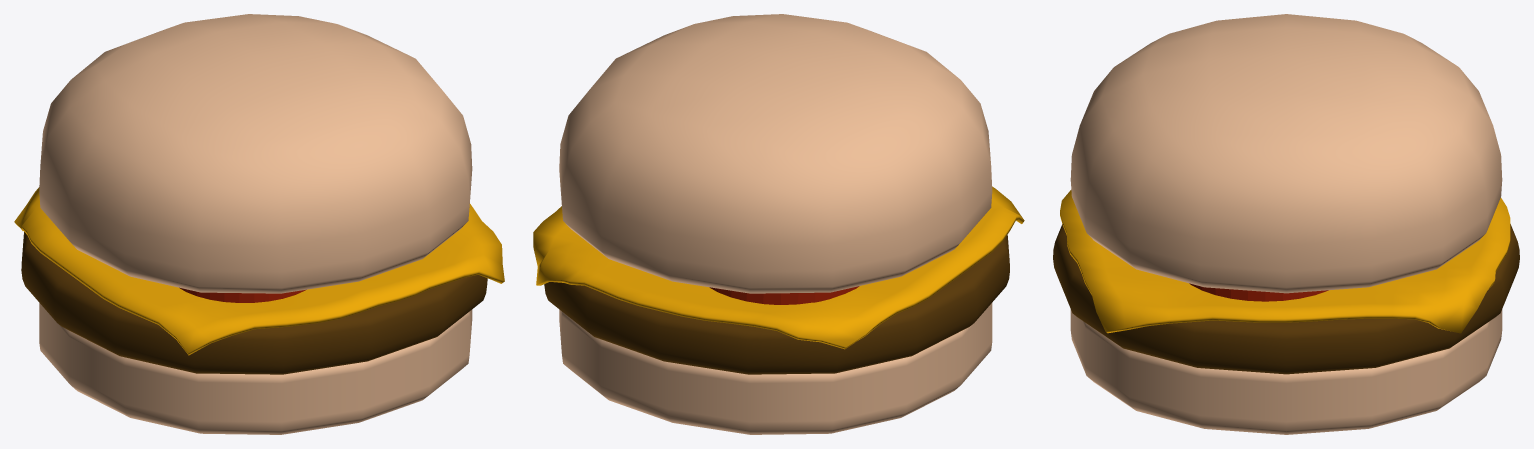
Rendered from burger.glb.
3 renders of one model, left to right at view 1: azimuth 30°, elevation 25°; view 2: azimuth 150°, elevation 25°; view 3: azimuth 270°, elevation 25°, orthographic.
Parts seen in each view (by area): view 1: Top Bun, Bottom Bun, pattie, Cheese, Tomato; view 2: Top Bun, Bottom Bun, pattie, Cheese, Tomato.002; view 3: Top Bun, Bottom Bun, Cheese, pattie, Tomato.001.
Boxes of the visible parts, bbox=[...] form: Top Bun: bbox=[39, 14, 472, 293]; Bottom Bun: bbox=[39, 303, 472, 434]; pattie: bbox=[21, 232, 487, 374]; Cheese: bbox=[14, 187, 504, 355]; Tomato: bbox=[179, 287, 306, 302]; Top Bun: bbox=[559, 14, 992, 293]; Bottom Bun: bbox=[559, 303, 992, 434]; pattie: bbox=[544, 235, 1009, 374]; Cheese: bbox=[533, 186, 1024, 349]; Tomato.002: bbox=[709, 286, 859, 304]; Top Bun: bbox=[1070, 14, 1502, 293]; Bottom Bun: bbox=[1070, 309, 1502, 434]; Cheese: bbox=[1060, 190, 1510, 333]; pattie: bbox=[1053, 224, 1519, 374]; Tomato.001: bbox=[1189, 283, 1328, 301].
Bounding box in the file's own units: 0.0992 × 0.0717 × 0.0992.
